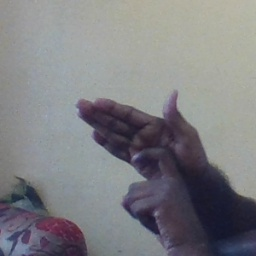R: (73, 86, 208, 218)
